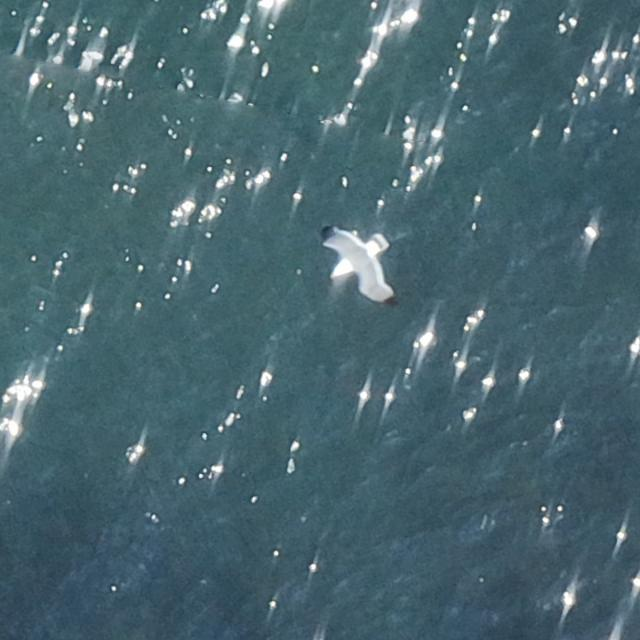F: (321, 217, 400, 305)
